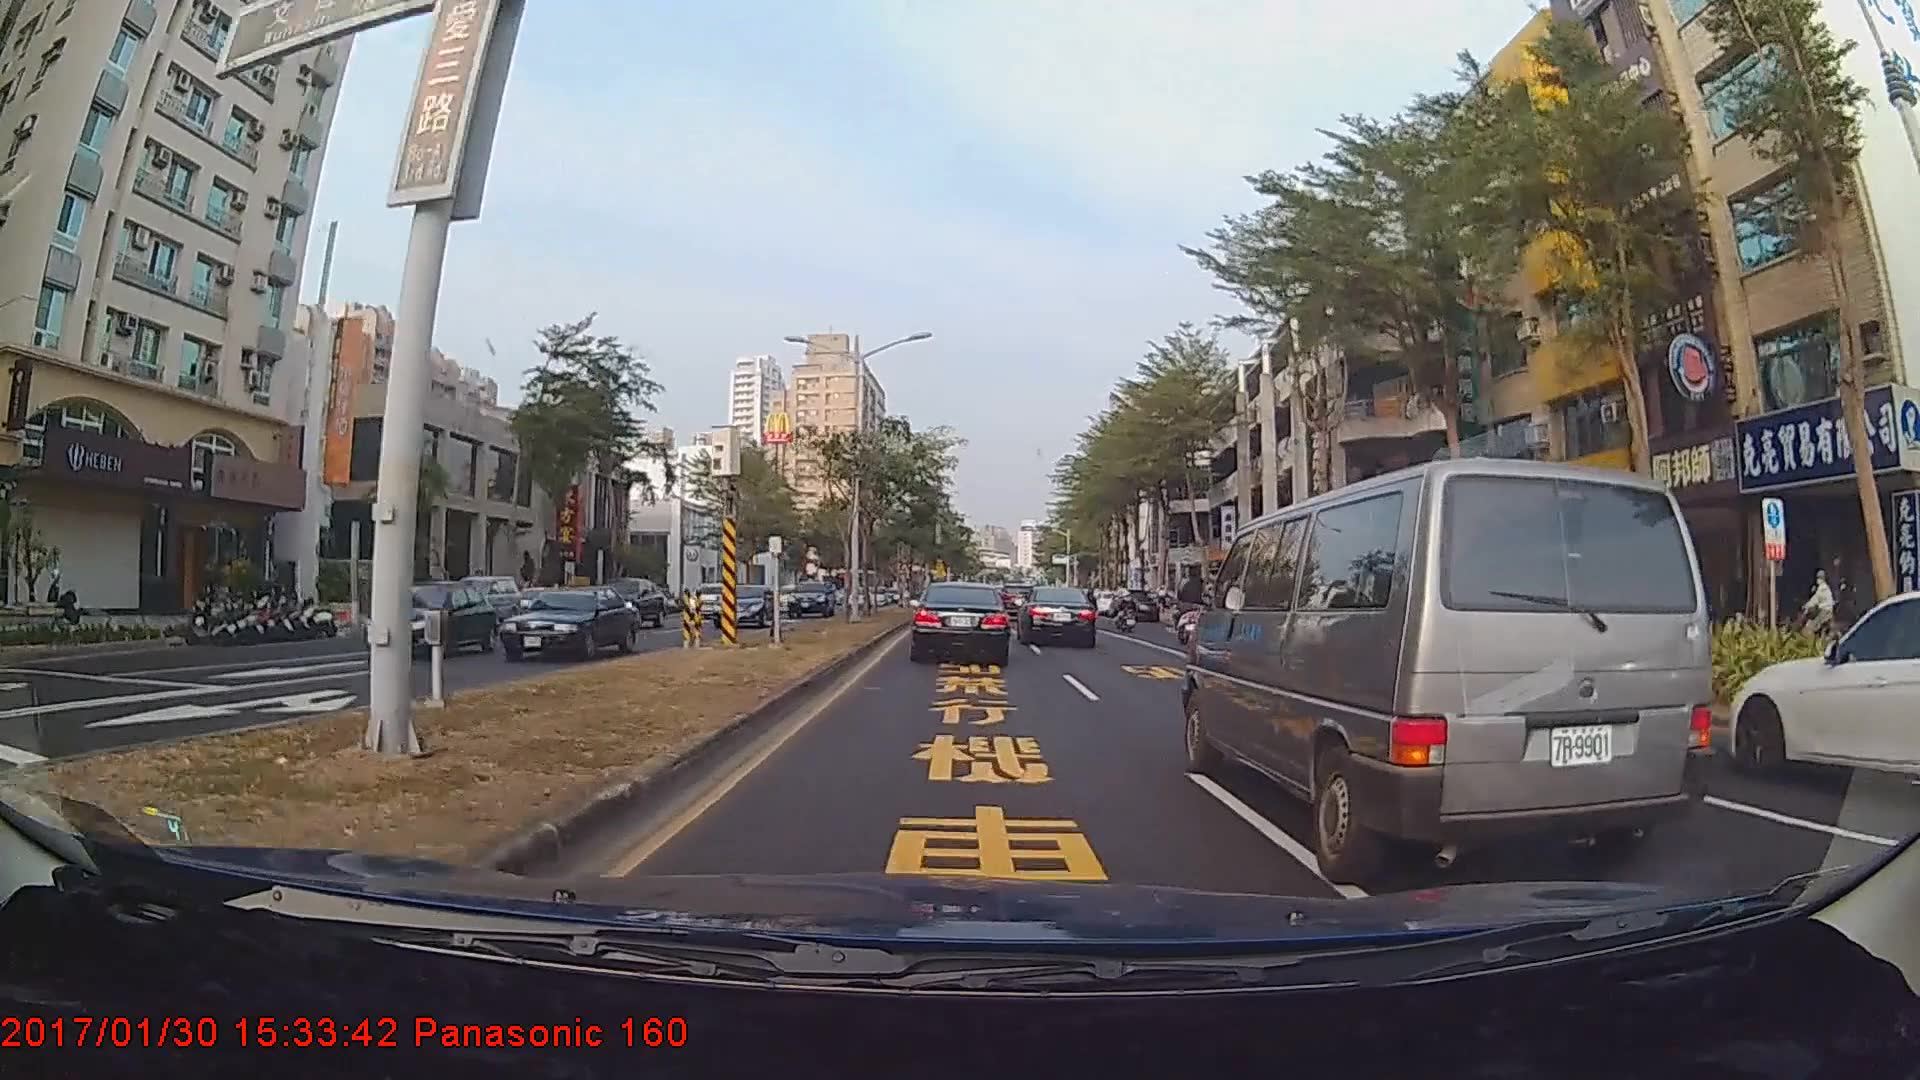vehicle: (1193, 448, 1706, 876), (1731, 584, 1919, 806), (493, 582, 640, 663), (359, 582, 501, 659), (909, 582, 1010, 666), (1018, 585, 1098, 647), (585, 575, 666, 629), (444, 574, 522, 625), (709, 582, 773, 626), (684, 580, 736, 618), (785, 579, 832, 615)
